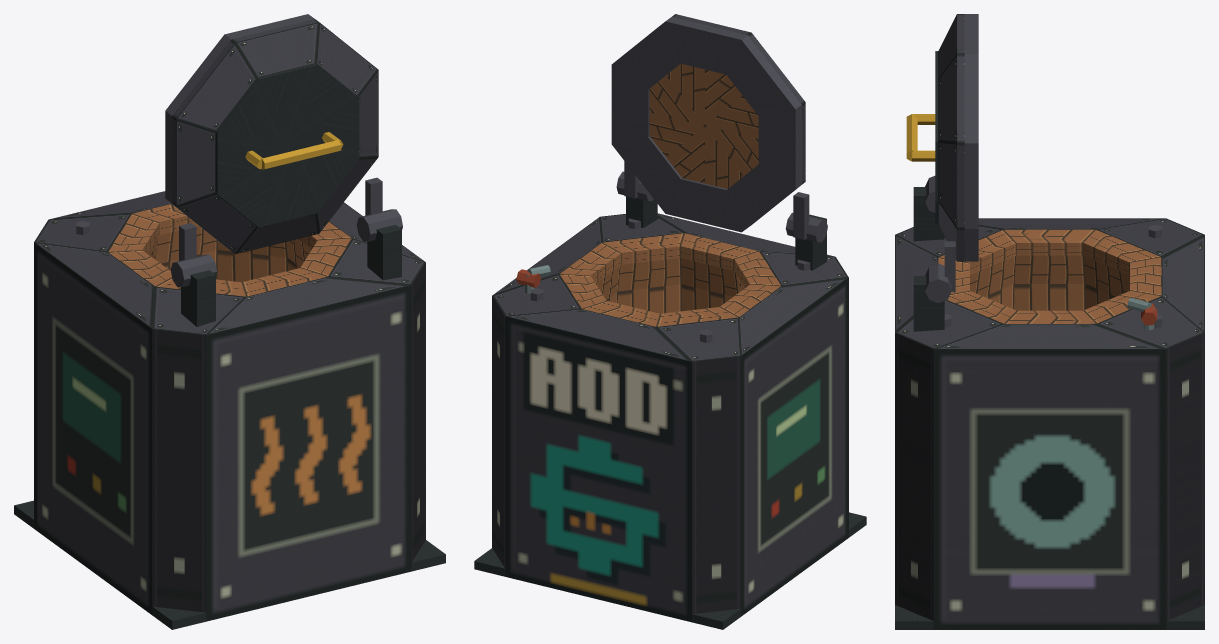
File: small_aod_niobium_titanium_open.obj
The picture shows the model from 3 angles, left to right: view 1: azimuth 30°, elevation 25°; view 2: azimuth 150°, elevation 25°; view 3: azimuth 270°, elevation 25°; orthographic projection. The views are drawn at different scales.
Parts seen in each view (by area): view 1: contact_south, lid, contact_west, cut_corners, shoulder, rim, hinge, lining, sole_edge; view 2: contact_north, lid, contact_west, shoulder, cut_corners, rim, lining, hinge, sole_edge, gas_trim; view 3: contact_east, cut_corners, shoulder, lid, rim, lining, hinge, sole_edge, gas_trim.
Part boxes in pixels (x1,y1,x2,y2): contact_south: [206, 285, 411, 621]; lid: [165, 14, 382, 260]; contact_west: [34, 242, 152, 614]; cut_corners: [152, 263, 425, 612]; shoulder: [34, 191, 425, 335]; rim: [108, 204, 351, 296]; hinge: [170, 209, 402, 326]; lining: [148, 226, 311, 282]; sole_edge: [14, 500, 445, 629]; contact_north: [505, 316, 691, 622]; lid: [611, 14, 809, 239]; contact_west: [741, 277, 848, 616]; shoulder: [492, 213, 848, 361]; cut_corners: [492, 296, 740, 614]; rim: [559, 233, 781, 326]; lining: [596, 258, 744, 313]; hinge: [616, 171, 827, 270]; sole_edge: [474, 512, 866, 629]; gas_trim: [516, 265, 550, 293]; contact_east: [933, 349, 1166, 629]; cut_corners: [895, 333, 1204, 620]; shoulder: [895, 218, 1204, 349]; lid: [906, 14, 978, 291]; rim: [938, 229, 1161, 323]; lining: [970, 255, 1129, 310]; hinge: [913, 176, 951, 331]; sole_edge: [895, 605, 1204, 629]; gas_trim: [1127, 298, 1157, 330].
Size of the model in its own units: 1 by 1.89 by 1.
Materials: 14 (14 with a texture image).
